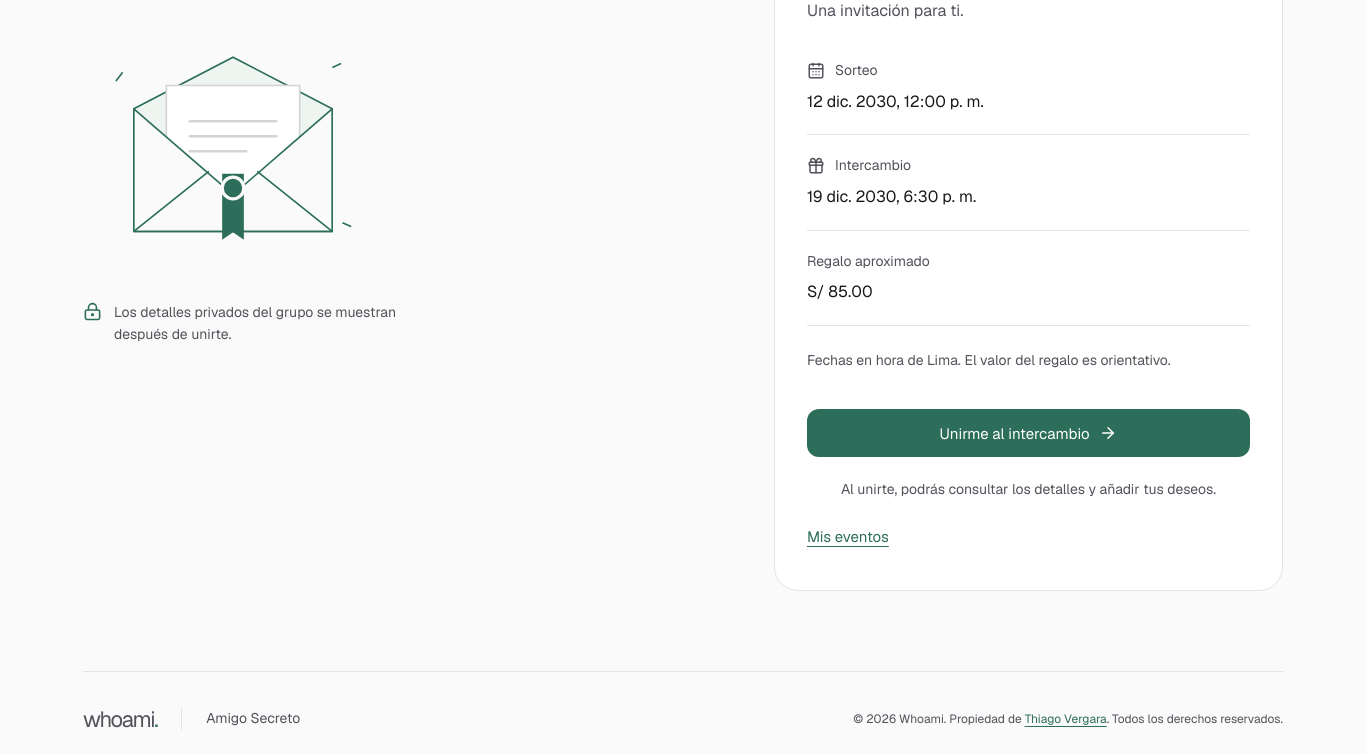
Test: Acceso e invitaciones › recupera una unión confirmada por el servidor aunque se pierda la respuesta del POST
This screenshot has width=1366, height=754.
(page scrolled)
Click the button "Unirme al intercambio" at (1028, 433), box [807,409,1250,457]
(page scrolled)
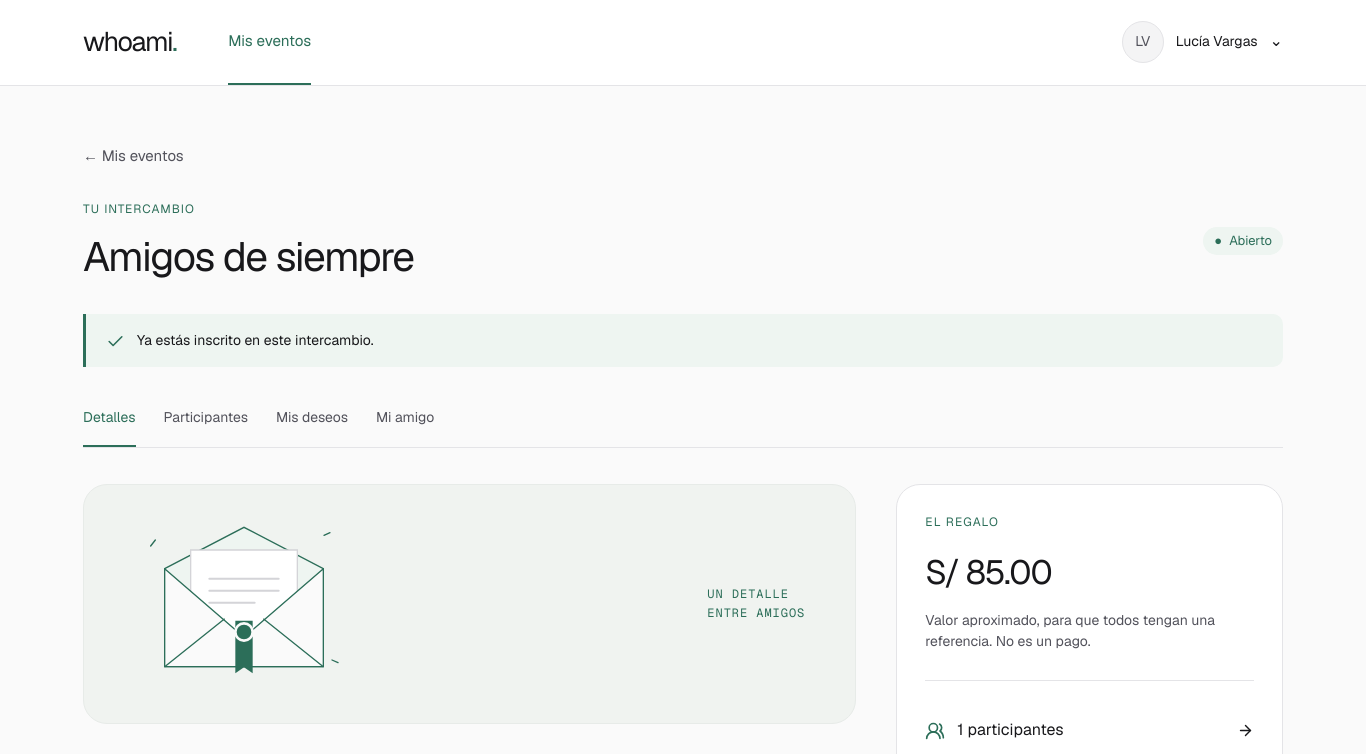
Expected: the text "Ya estás inscrito en este intercambio." is shown, [137,330,374,351]
Expected: the link "Mis deseos" is shown, [276,408,348,426]
